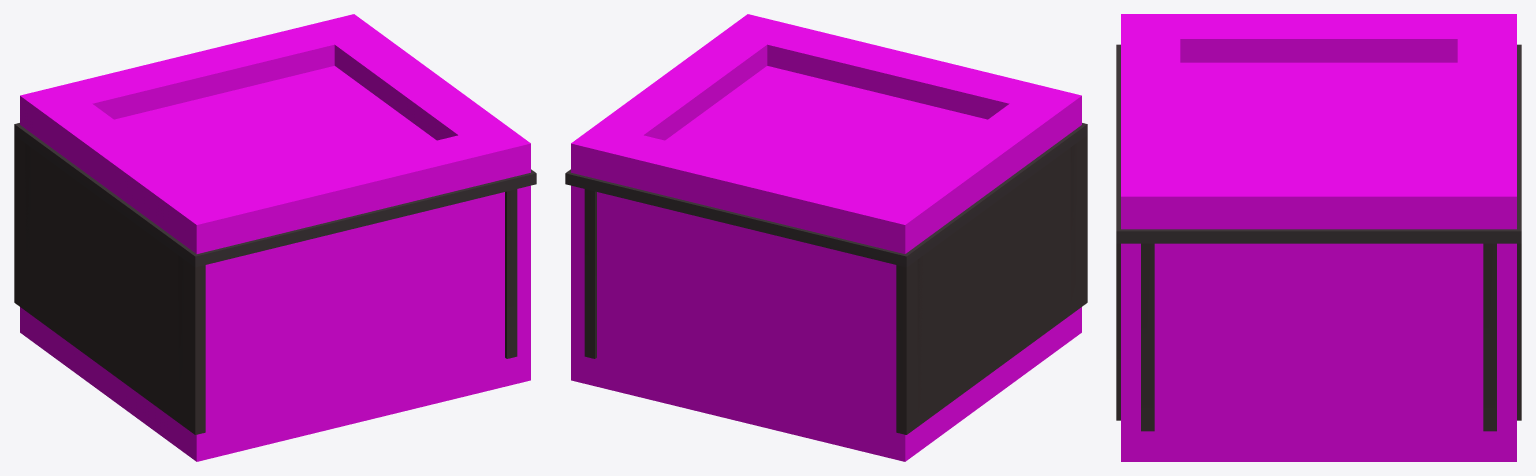
The model's file is interior-cottage.glb.
3 views of the same model, side by side, from view 1: azimuth 30°, elevation 25°; view 2: azimuth 150°, elevation 25°; view 3: azimuth 270°, elevation 25° (orthographic). The views are drawn at different scales.
Parts seen in each view (by area): view 1: Col_wall_front, Interior cottage Plaster, Col_ceiling, Col_wall_left, Col_wall_back, Col_wall_right; view 2: Col_wall_back, Interior cottage Plaster, Col_ceiling, Col_wall_left, Col_wall_right, Col_wall_front; view 3: Col_wall_right, Col_ceiling, Col_wall_front, Col_wall_back, Col_wall_left, Interior cottage Plaster.
Part boxes in pixels (x1,y1,x2,y2): Col_wall_front: (170, 124, 530, 461); Interior cottage Plaster: (14, 123, 536, 434); Col_ceiling: (80, 66, 530, 302); Col_wall_left: (20, 90, 242, 461); Col_wall_back: (20, 14, 380, 119); Col_wall_right: (309, 18, 529, 287); Col_wall_back: (571, 124, 931, 461); Interior cottage Plaster: (565, 123, 1087, 434); Col_ceiling: (571, 66, 987, 302); Col_wall_left: (859, 90, 1081, 461); Col_wall_right: (571, 17, 790, 391); Col_wall_front: (721, 14, 1081, 335); Col_wall_right: (1121, 171, 1516, 461); Col_ceiling: (1121, 62, 1516, 285); Col_wall_front: (1121, 14, 1180, 461); Col_wall_back: (1457, 14, 1516, 461); Col_wall_left: (1121, 14, 1516, 62); Interior cottage Plaster: (1116, 44, 1521, 431).
Bounding box in the file's own units: 9.8 × 6.5 × 9.
